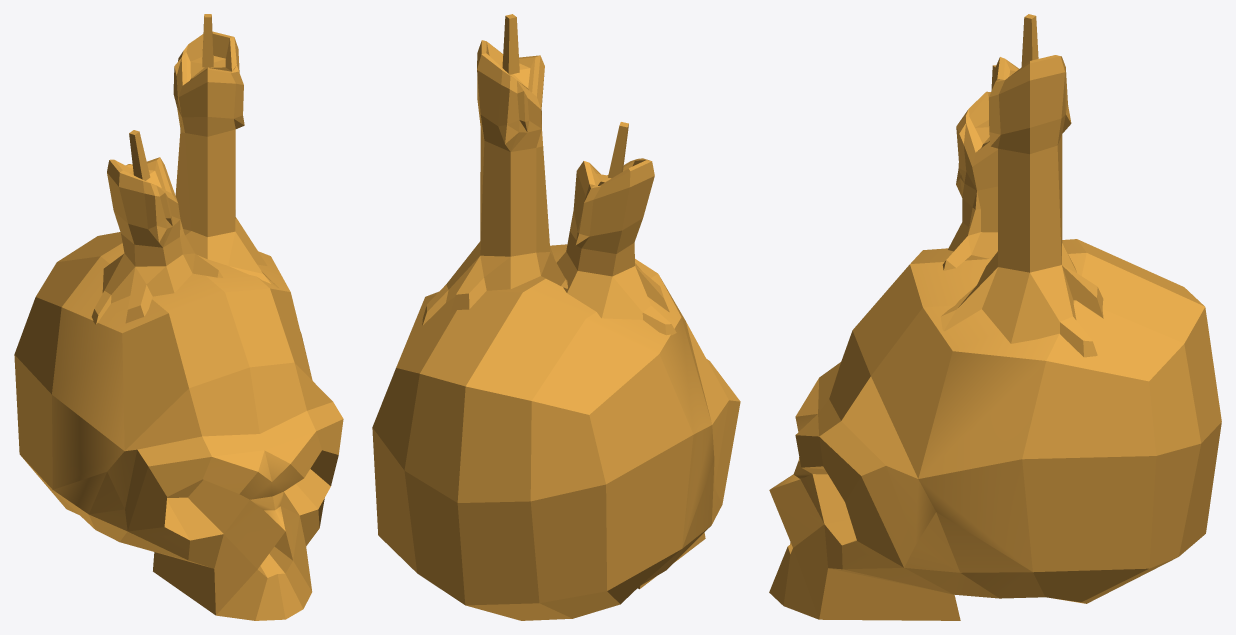
Rendered from candle-skull-unlit.fbx.
The picture shows the model from 3 angles, left to right: view 1: azimuth 30°, elevation 25°; view 2: azimuth 150°, elevation 25°; view 3: azimuth 270°, elevation 25°; orthographic projection. The views are drawn at different scales.
Parts seen in each view (by area): view 1: candle-skull-unlit; view 2: candle-skull-unlit; view 3: candle-skull-unlit.
Part boxes in pixels (<box>): candle-skull-unlit: <box>14,14,343,620</box>; candle-skull-unlit: <box>372,14,740,620</box>; candle-skull-unlit: <box>769,14,1221,620</box>.
Bounding box in the file's own units: 0.1621 × 0.3185 × 0.2194.
